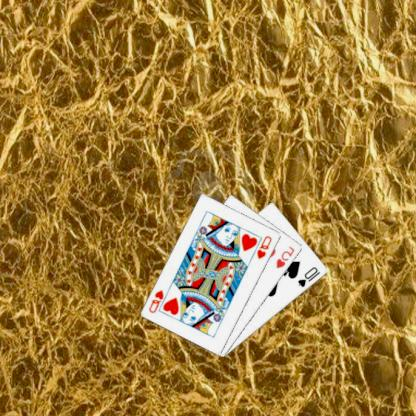10S: (297, 264, 324, 288)
5H: (275, 243, 298, 269)
QH: (148, 287, 173, 314), (256, 233, 275, 260)
